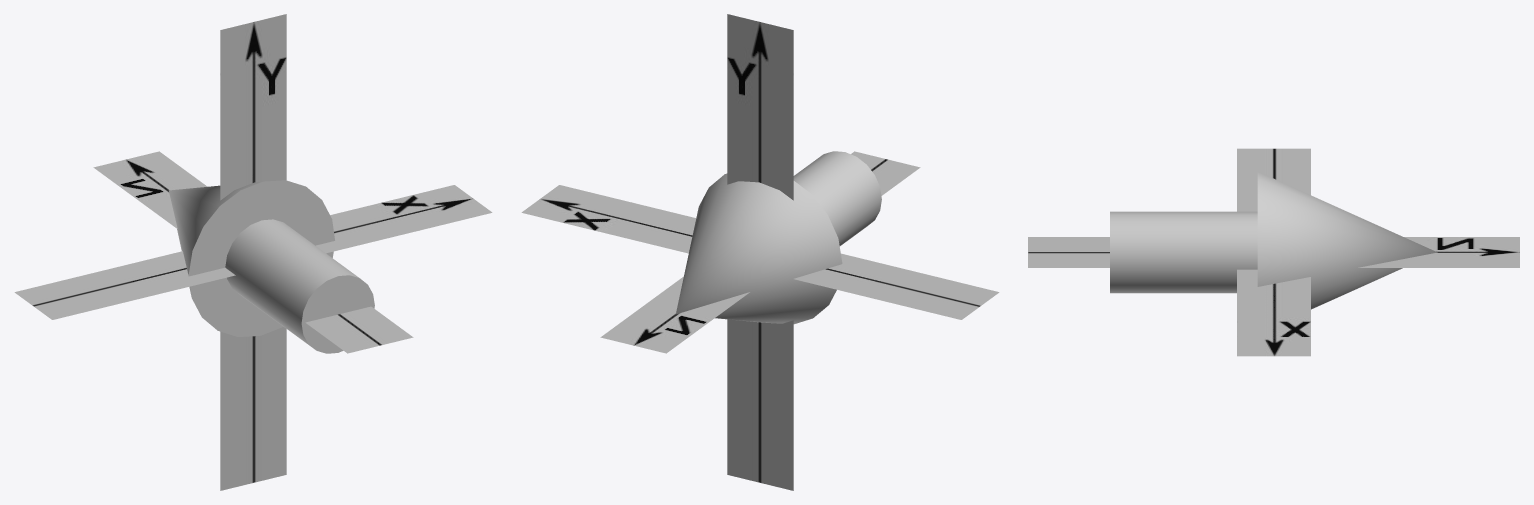
Rendered from Arrow.fbx.
3 views of the same model, side by side, from view 1: azimuth 30°, elevation 25°; view 2: azimuth 150°, elevation 25°; view 3: azimuth 270°, elevation 25° (orthographic). The views are drawn at different scales.
Visible parts, largest first — view 1: Arrow; view 2: Arrow; view 3: Arrow.
Part boxes in pixels (left/top/right/bottom): Arrow: left=14, top=14, right=492, bottom=490; Arrow: left=521, top=14, right=999, bottom=490; Arrow: left=1028, top=148, right=1519, bottom=356.
Bounding box in the file's own units: 15 × 15 × 15.
